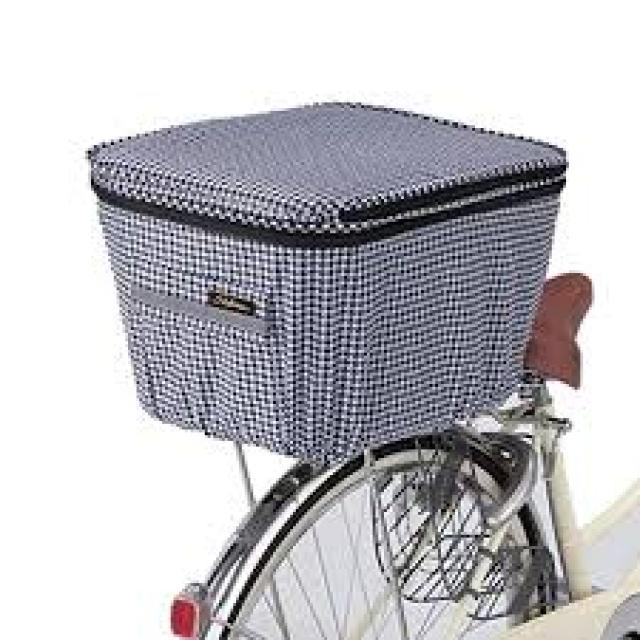basket: (86, 102, 568, 459)
